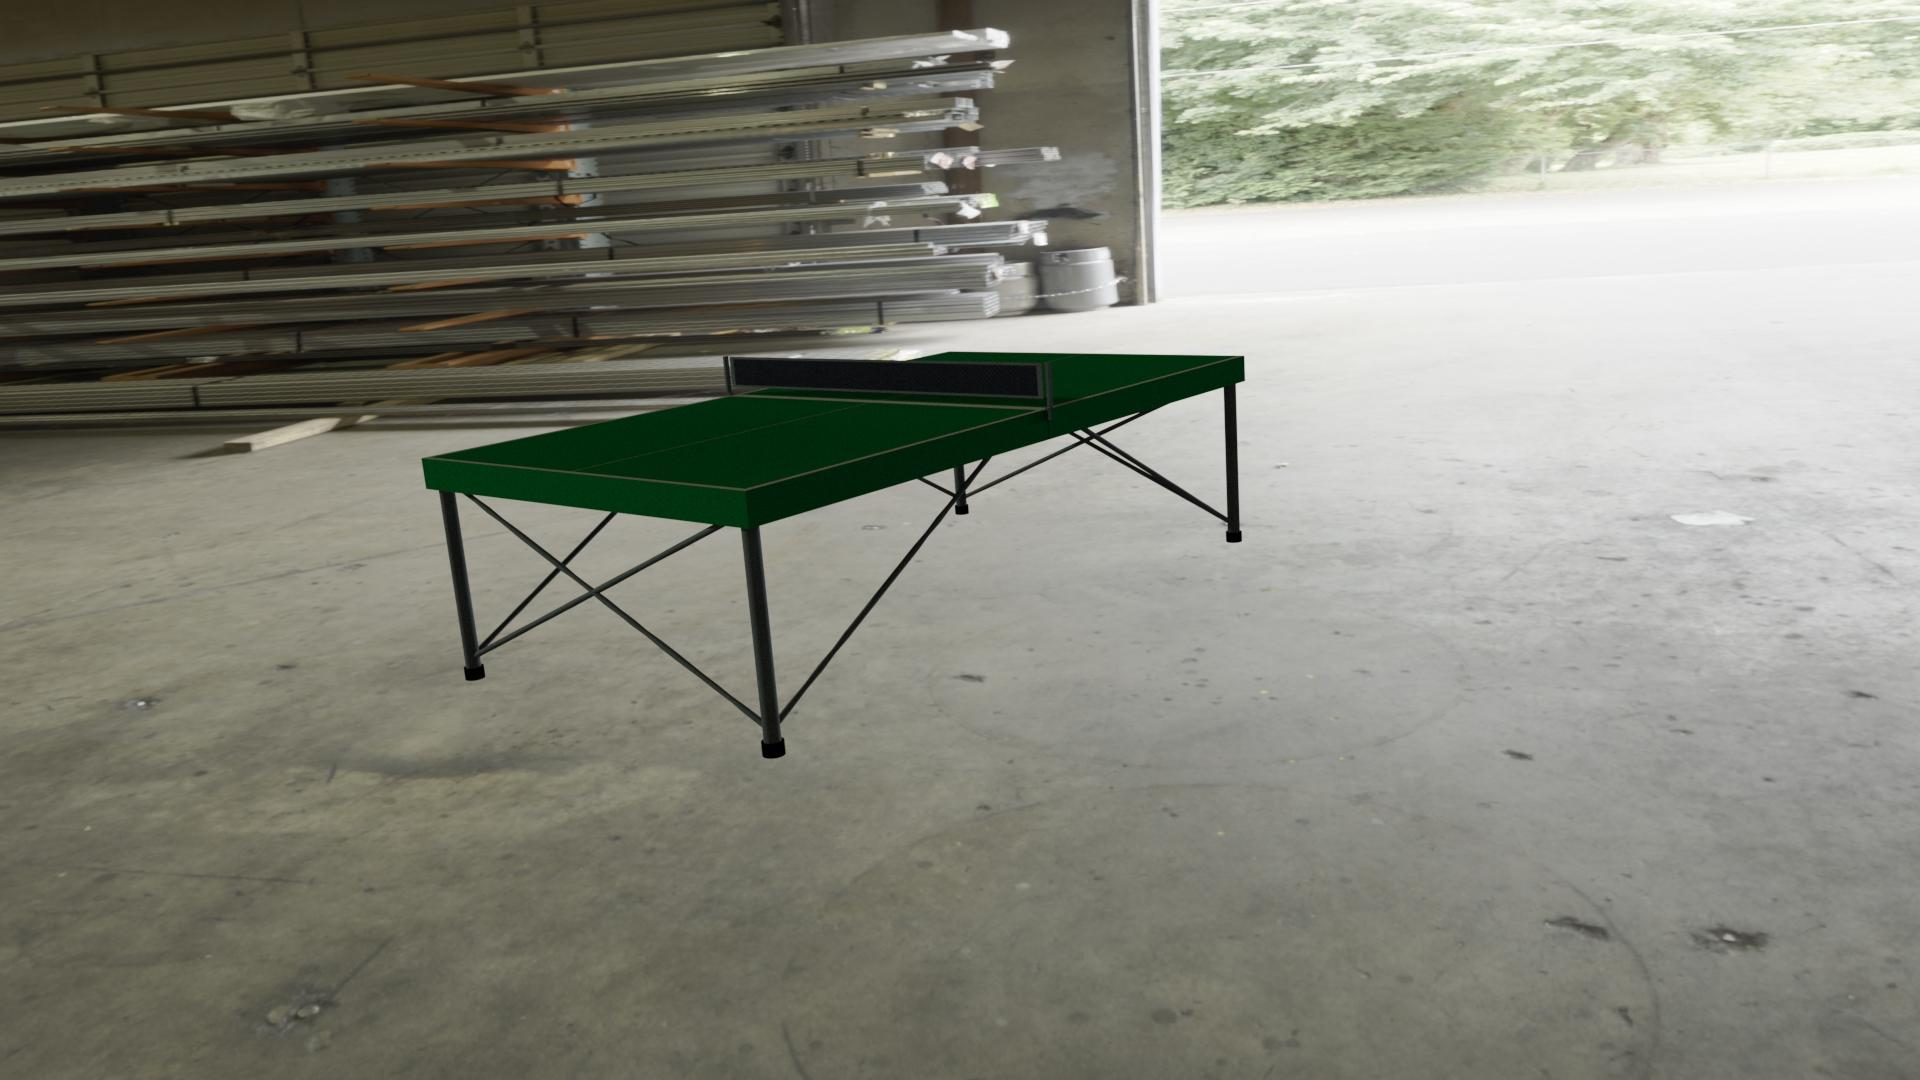table: (430, 352, 1238, 489)
